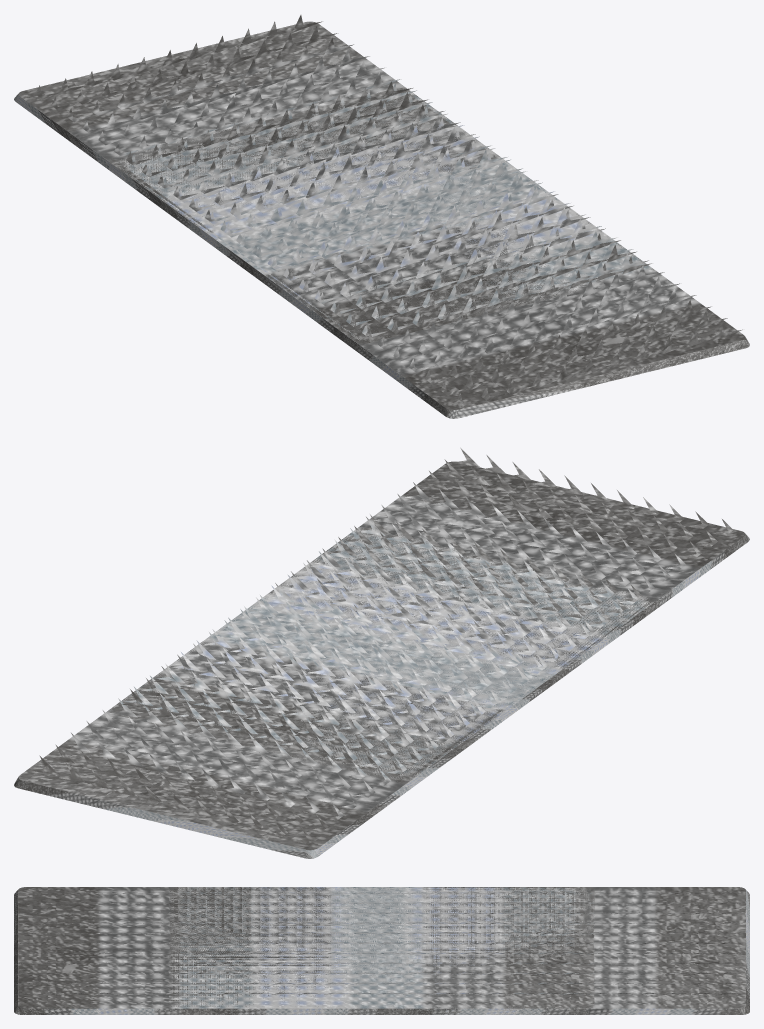
File: bathmat alt.glb
The picture shows the model from 3 angles, top to bottom: view 1: azimuth 30°, elevation 25°; view 2: azimuth 150°, elevation 25°; view 3: azimuth 270°, elevation 25°; orthographic projection. The views are drawn at different scales.
Parts seen in each view (by area): view 1: Merged, Cube.001, Plane.001; view 2: Merged, Cube.001, Plane.001; view 3: Cube.001, Merged, Plane.001.
Boxes of the visible parts, bbox=[...] form: Merged: bbox=[14, 15, 654, 349]; Cube.001: bbox=[109, 88, 749, 418]; Plane.001: bbox=[126, 81, 742, 407]; Merged: bbox=[14, 514, 654, 858]; Cube.001: bbox=[110, 461, 749, 789]; Plane.001: bbox=[121, 447, 733, 777]; Cube.001: bbox=[14, 887, 594, 1014]; Merged: bbox=[166, 887, 749, 1014]; Plane.001: bbox=[15, 892, 590, 994].
Size of the model in its own units: 2.03 by 0.1237 by 5.11.
1 material, 1 textured.
